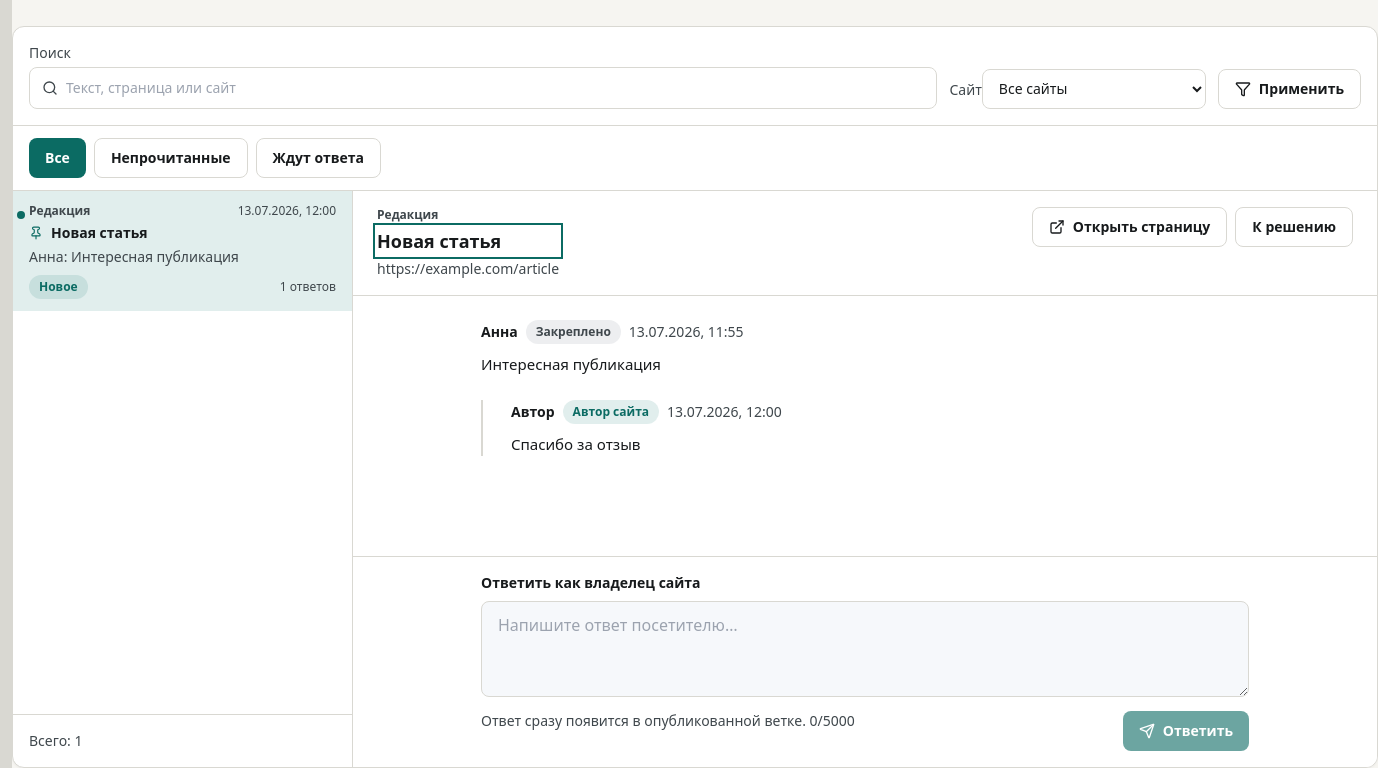
Test: страница обсуждений › публикует ответ владельца один раз и очищает черновик после успеха
This screenshot has width=1378, height=768.
(page scrolled)
Type "  Новый ответ владельца  " into the text box labelled "Ответить как владелец сайта" at point(865, 649), box [481, 601, 1249, 697]
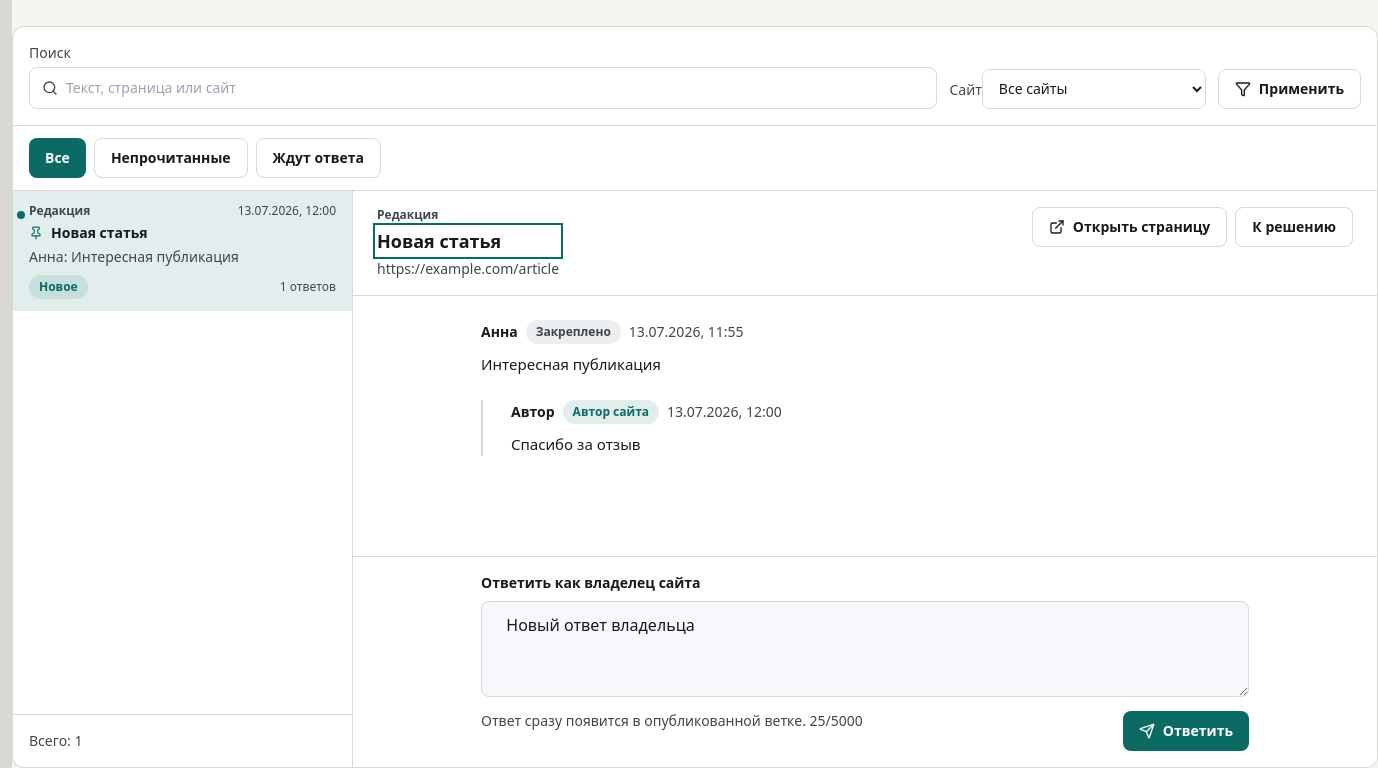
Click the button "Ответить" at point(1186, 731), box [1123, 711, 1249, 751]
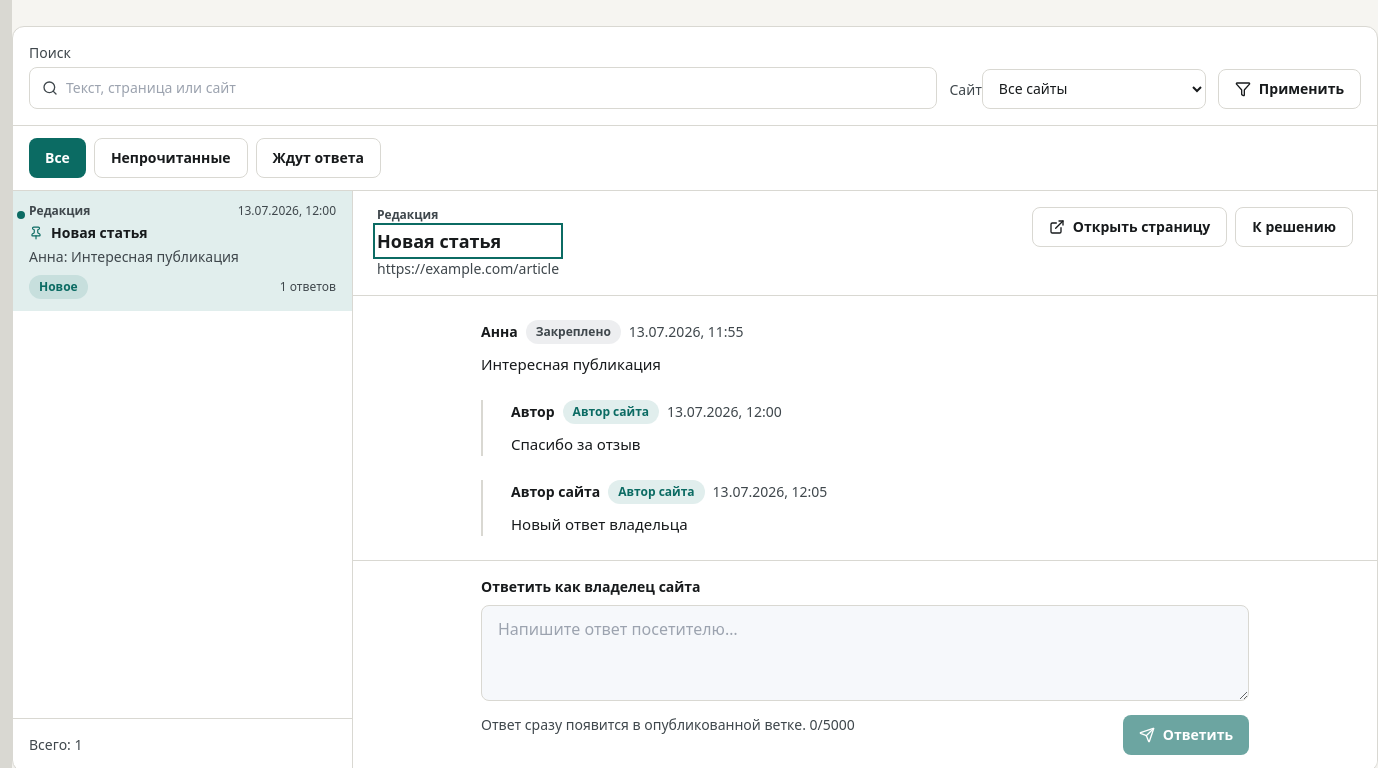
Now the text "Новый ответ владельца" is shown, box [511, 514, 688, 534]
Now the text box labelled "Ответить как владелец сайта" is empty, box [481, 605, 1249, 701]
